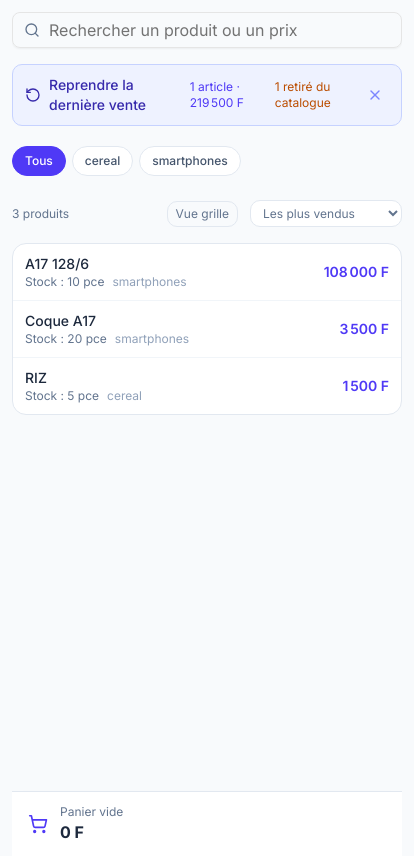
Test: POS — reprendre la dernière vente › retire les lignes dont le produit a quitté le catalogue, sans planter
The width and height of the screenshot is (414, 856).
Click the button with aria-label "Ajouter au panier les 1 articles de la dernière vente": {"x": 191, "y": 95} top-left (25, 73), bottom-right (357, 117)
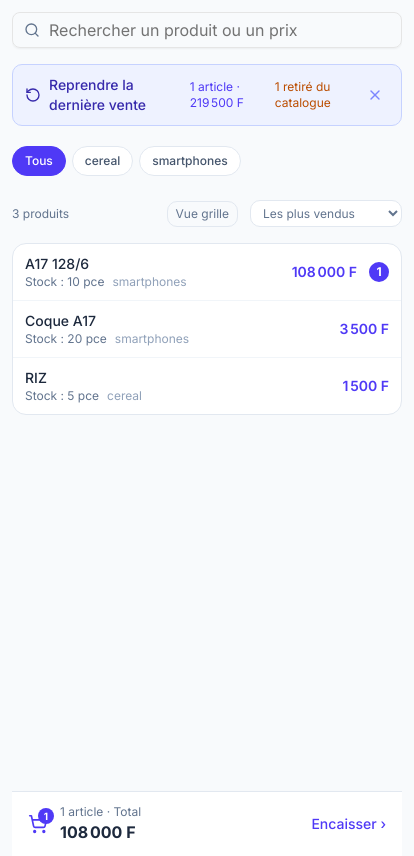
Now the button with aria-label "1 article, total" is shown, box top-left (12, 791), bottom-right (402, 855)
